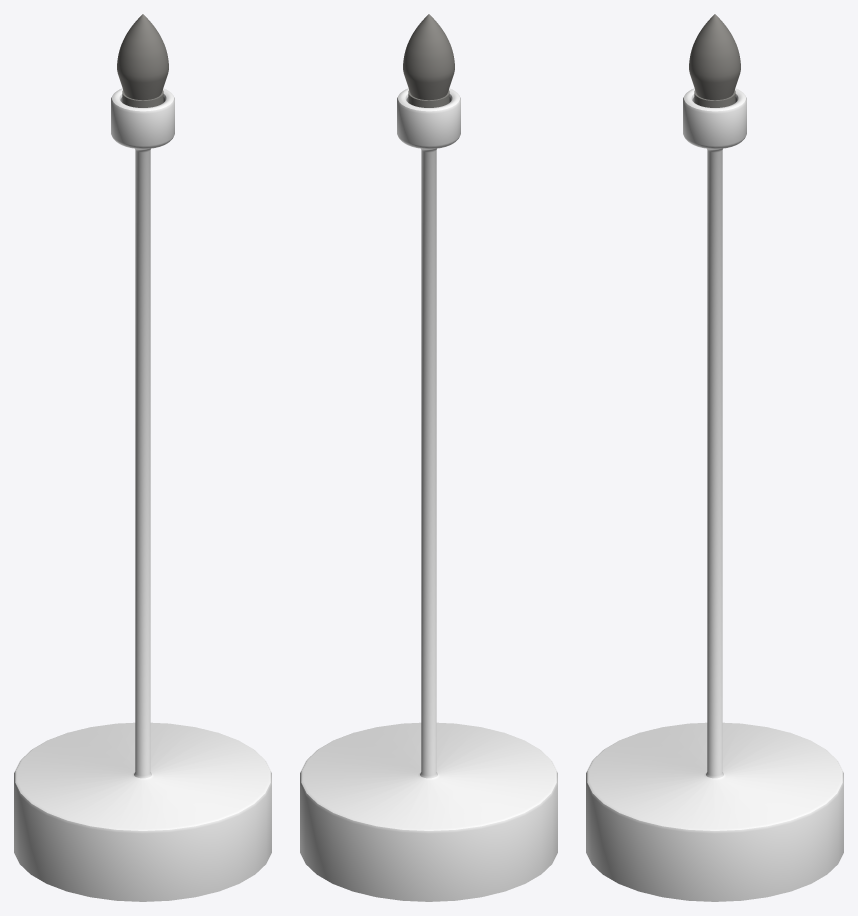
Rendered from Lightbulb.FBX.
3 views of the same model, side by side, from view 1: azimuth 30°, elevation 25°; view 2: azimuth 150°, elevation 25°; view 3: azimuth 270°, elevation 25° (orthographic).
Visible parts, largest first — view 1: Cylinder001; view 2: Cylinder001; view 3: Cylinder001.
Boxes of the visible parts, box(x1,y1,x2,y2) form: Cylinder001: box(14, 14, 271, 901); Cylinder001: box(300, 14, 557, 901); Cylinder001: box(586, 14, 843, 901).
Bounding box in the file's own units: 28.49 × 101 × 28.34.
Materials: 4 (3 with a texture image).
